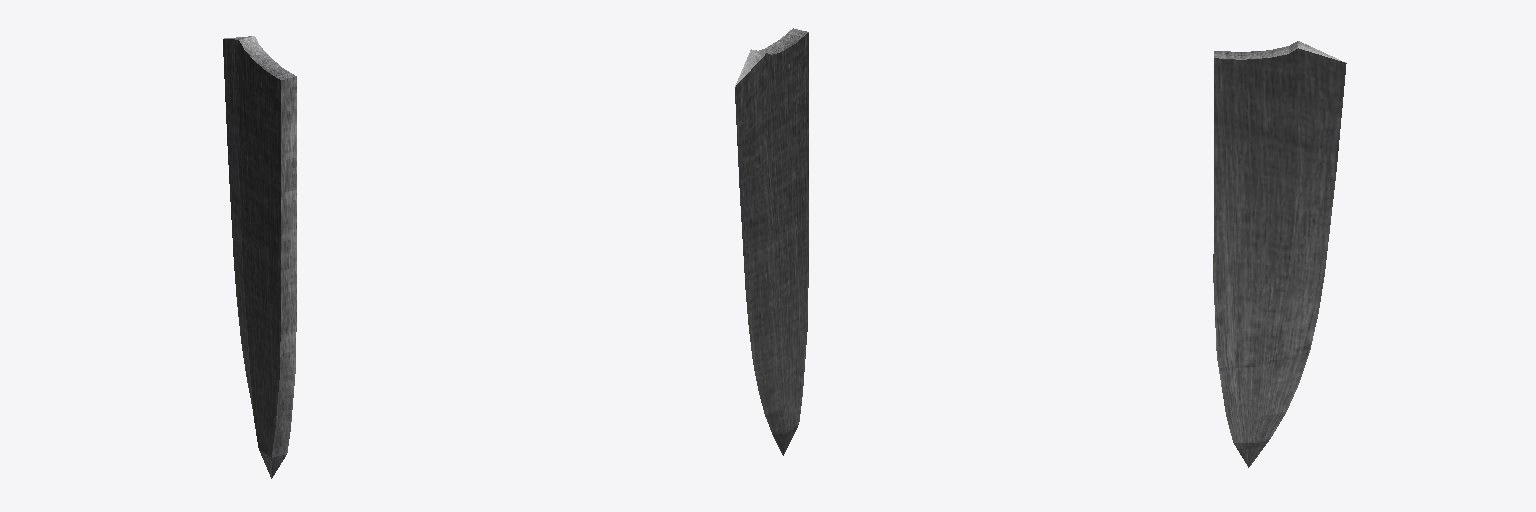
3 renders of one model, left to right at view 1: azimuth 30°, elevation 25°; view 2: azimuth 150°, elevation 25°; view 3: azimuth 270°, elevation 25°, orthographic.
Size of the model in its own units: 0.0221 by 0.5643 by 0.1611.
Materials: 1 (1 with a texture image).